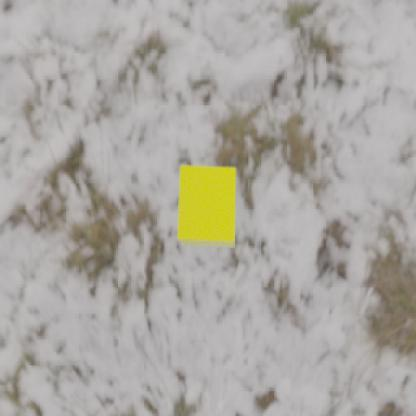cube: (176, 163, 236, 248)
